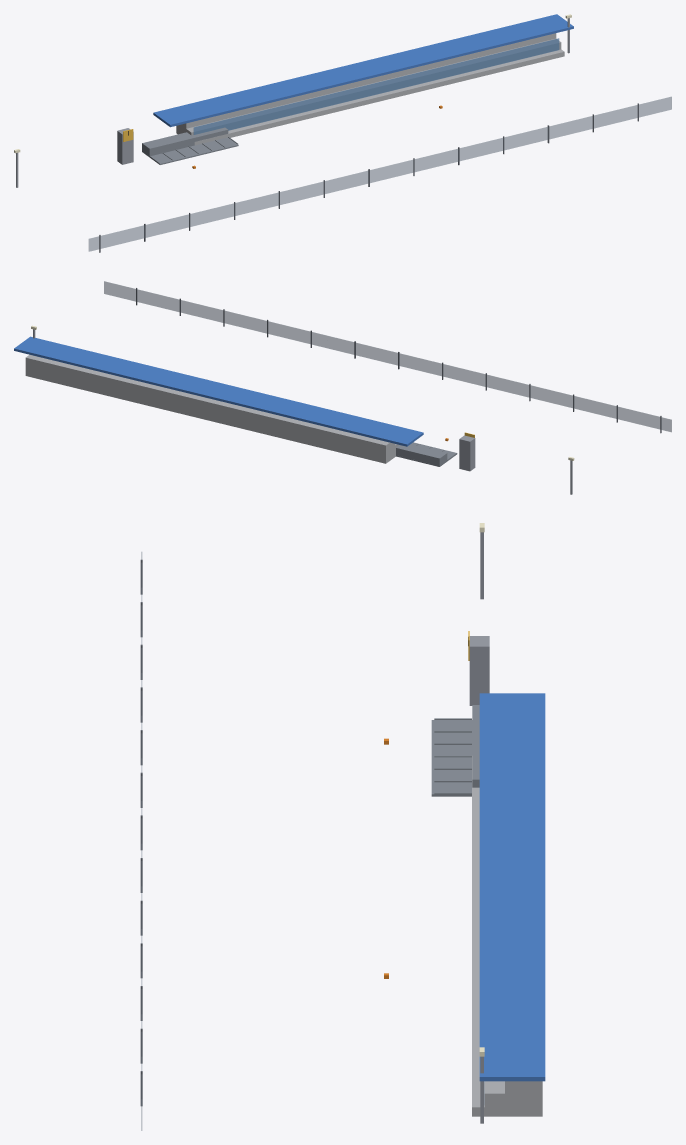
File: venue_22.obj
The picture shows the model from 3 angles, top to bottom: view 1: azimuth 30°, elevation 25°; view 2: azimuth 150°, elevation 25°; view 3: azimuth 270°, elevation 25°; orthographic projection. The views are drawn at different scales.
Size of the model in its own units: 520 by 32 by 160.
